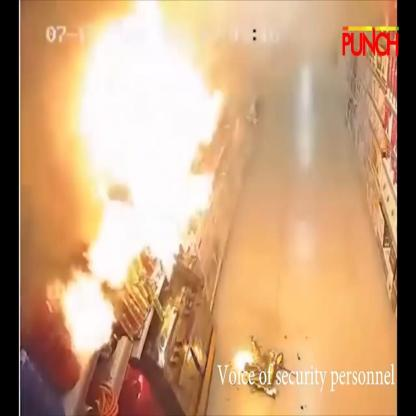fire: (75, 0, 222, 288), (46, 264, 115, 358), (234, 350, 252, 372)
